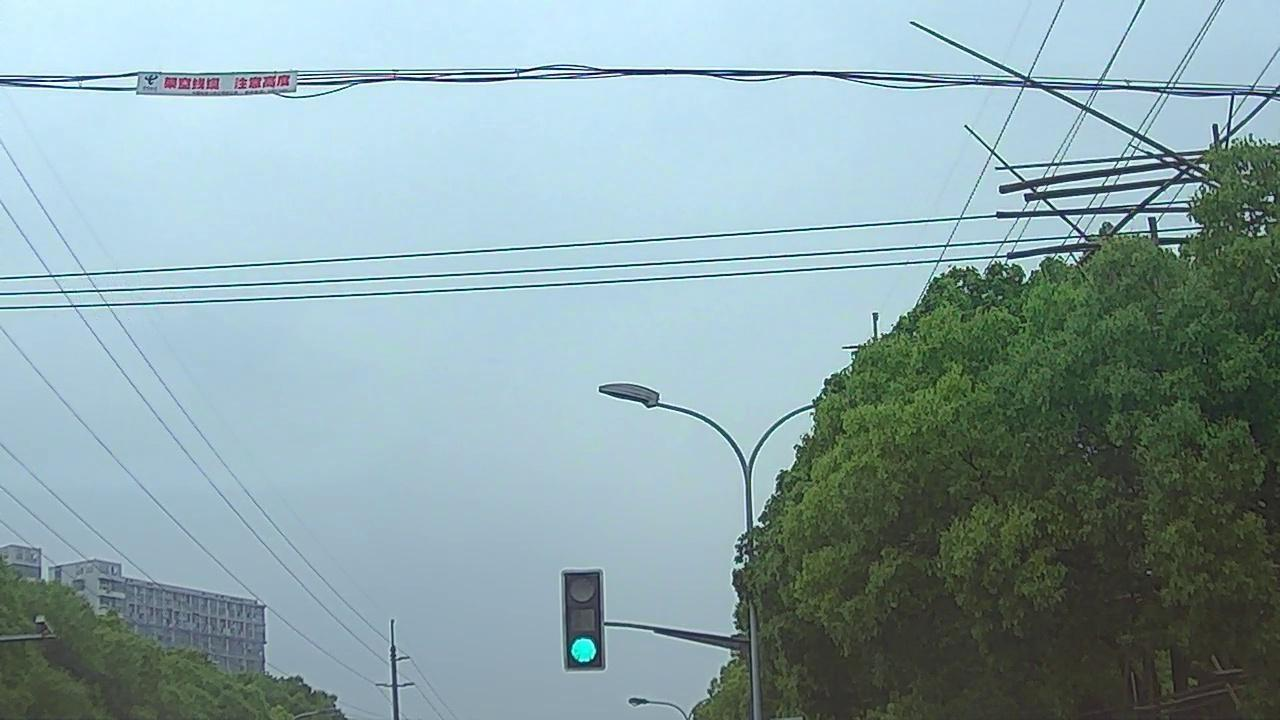traffic_light: (564, 575, 603, 666)
